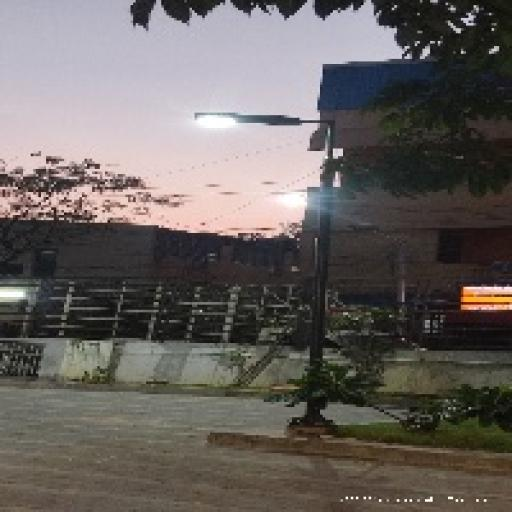Working: (189, 107, 284, 140), (267, 186, 312, 215)
